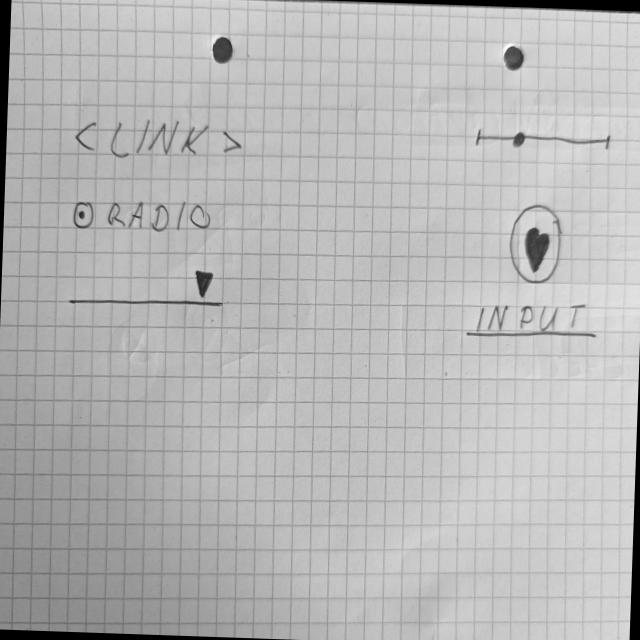icon-button: (505, 202, 566, 288)
input: (462, 297, 598, 346)
link: (72, 112, 244, 164)
radio: (70, 194, 213, 238)
select: (65, 262, 226, 312)
slider: (472, 126, 613, 154)
